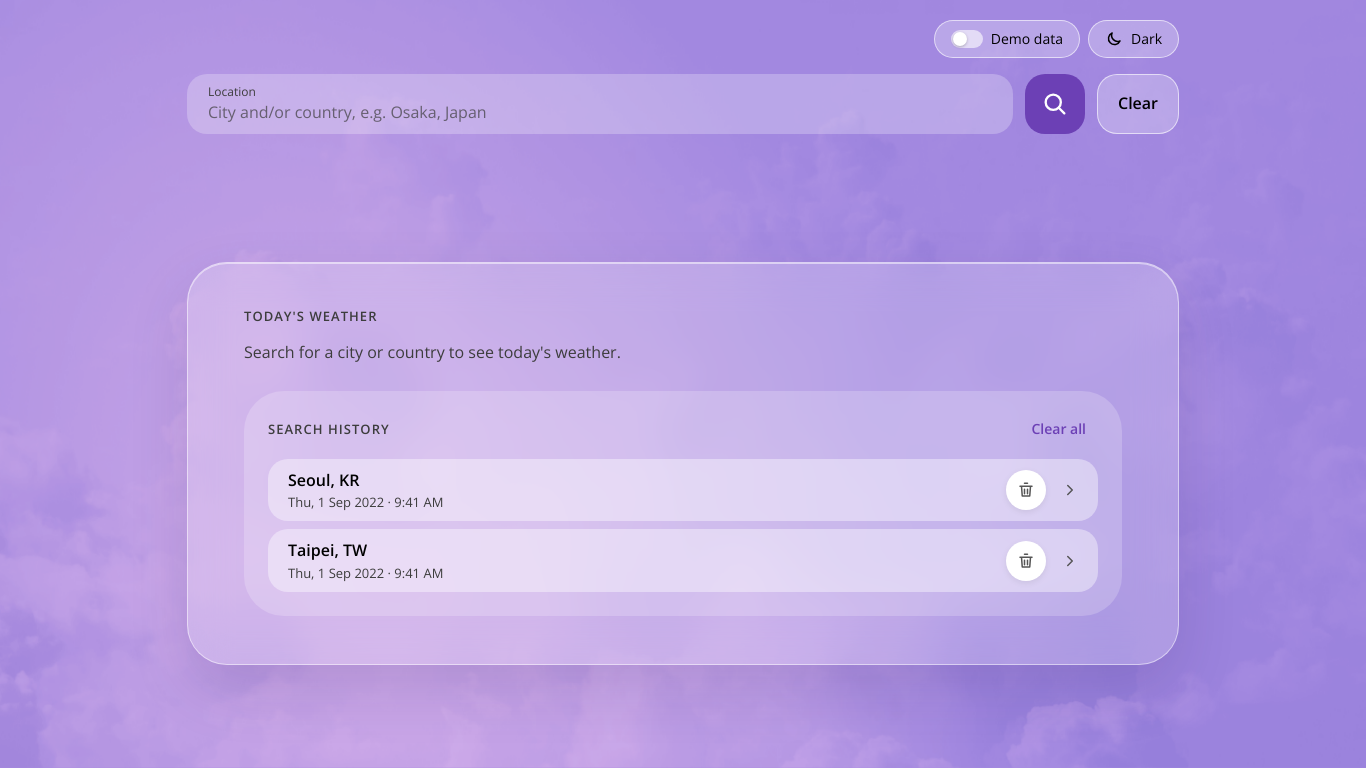
Test: App › delete removes only that entry and shows "No Record" when the list is empty
Click the button named "Delete Seoul, KR from history" at coordinates (1026, 490), box left=1006, top=470, right=1046, bottom=510
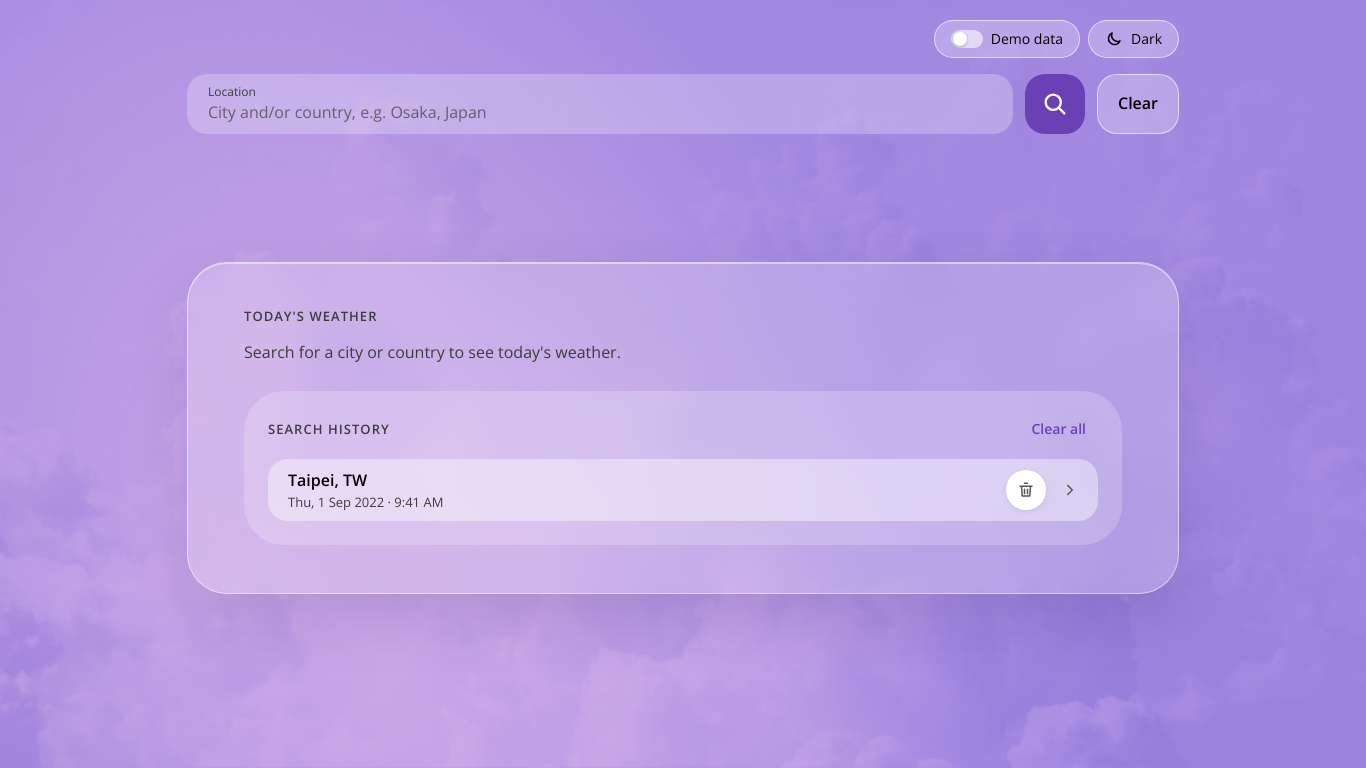
Expected: the list item shows "Taipei, TW", left=288, top=469, right=367, bottom=491
Result: the number of list items is 1 at left=268, top=459, right=1098, bottom=521
Click the button named "Delete Taipei, TW from history" at coordinates (1026, 490), box left=1006, top=470, right=1046, bottom=510
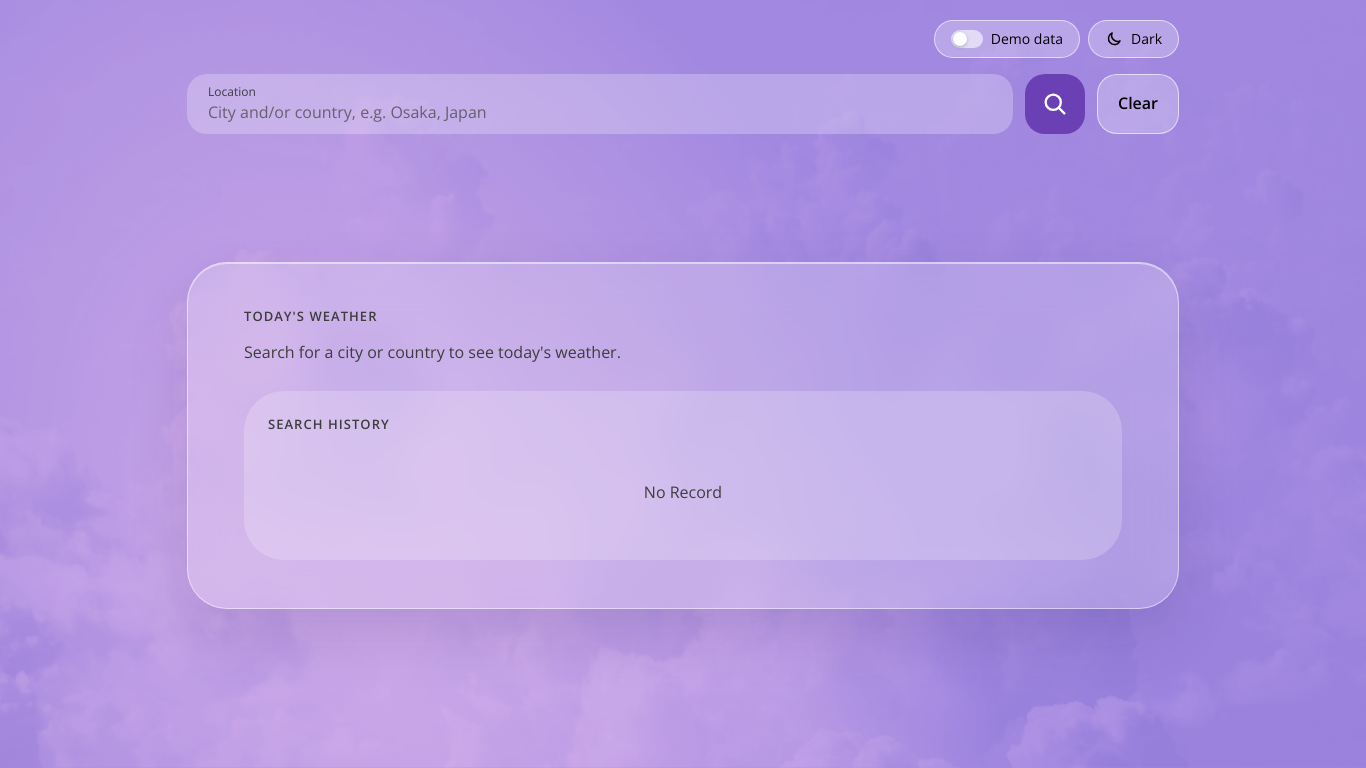
Result: the text "No Record" is shown at left=644, top=481, right=722, bottom=503
